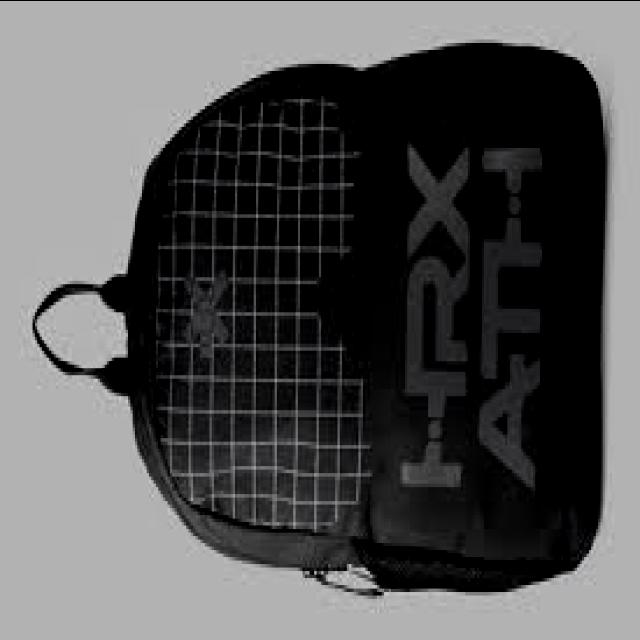backpack: (32, 43, 604, 599)
